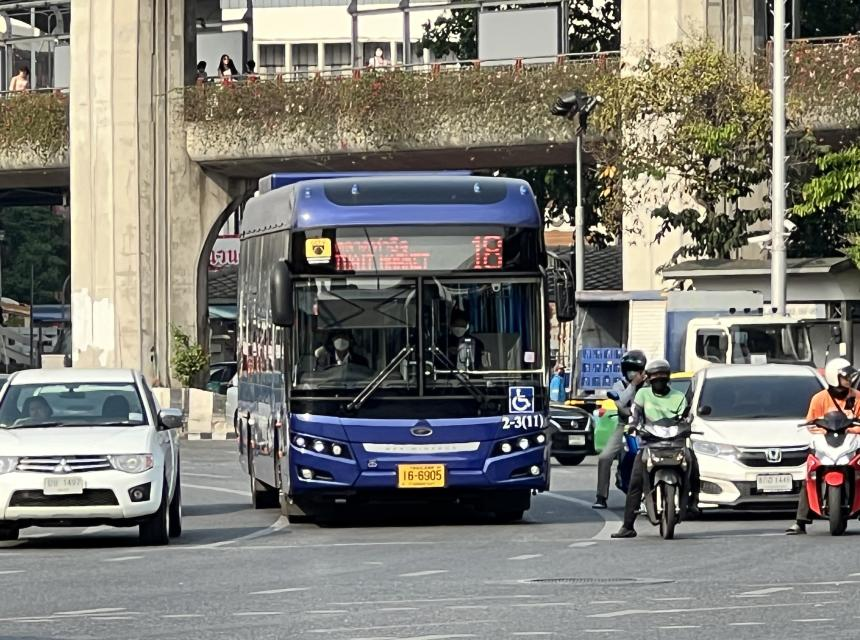Bus Line Number: (465, 228, 514, 274)
Bus Side Number: (494, 411, 545, 433)
Destination Sign: (330, 232, 435, 275)
TSB-Bus: (230, 172, 551, 528)
